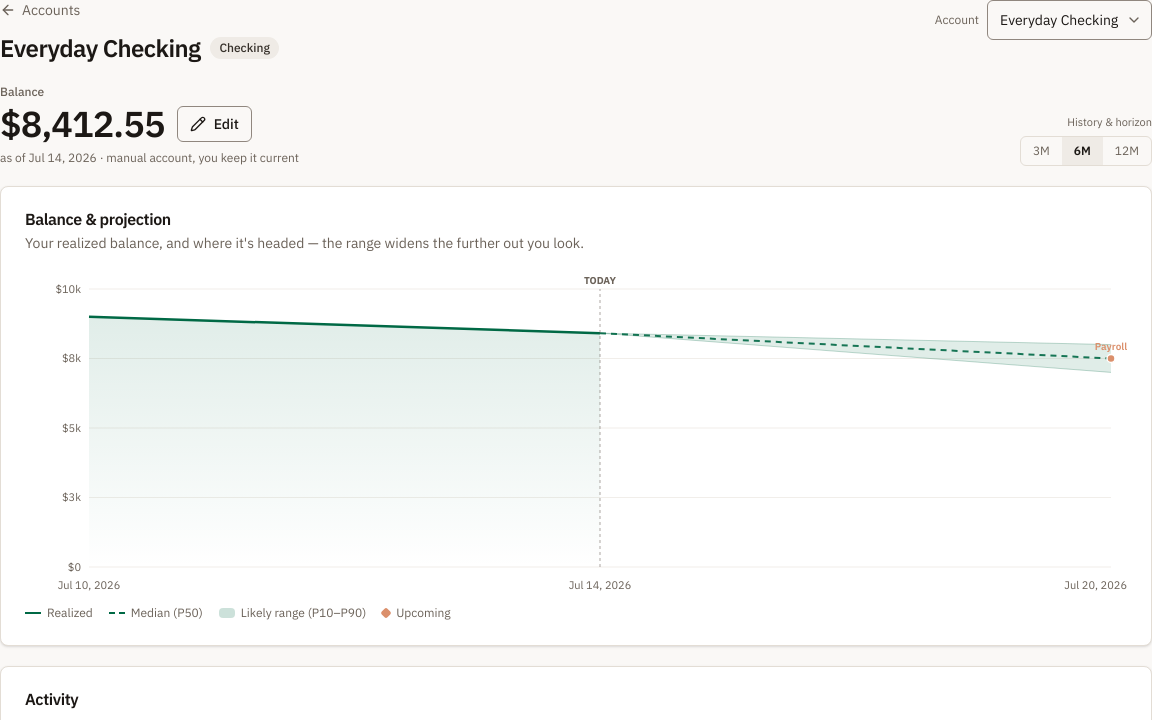
Scenario: AccountDetailView › Explain with transactions reads what is actually left (personal-cfo-4d8.64) › a cash account: a nonzero residual shows what remains, keeps the entry path, and never says Reconciled
Click the button "Edit".
click(214, 124)  # box [177,106,252,142]
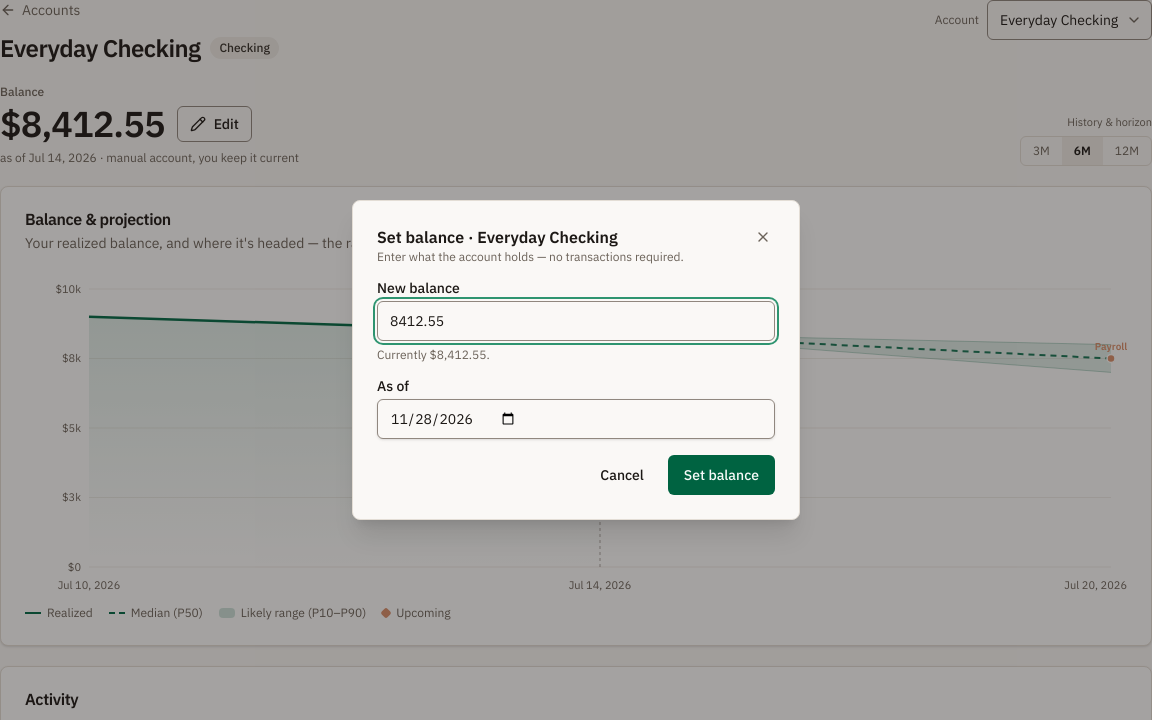
Click the button "Set balance".
click(721, 475)  # box [668,455,775,495]
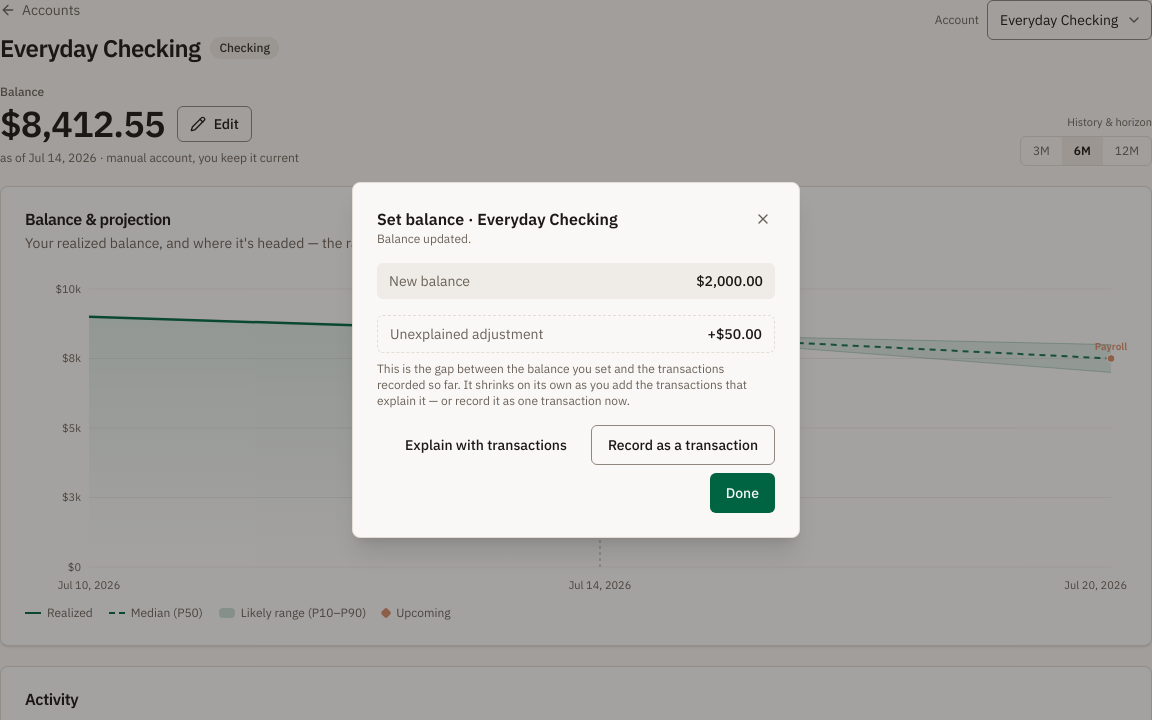
Click the button "Explain with transactions".
click(486, 445)  # box [389,425,583,465]
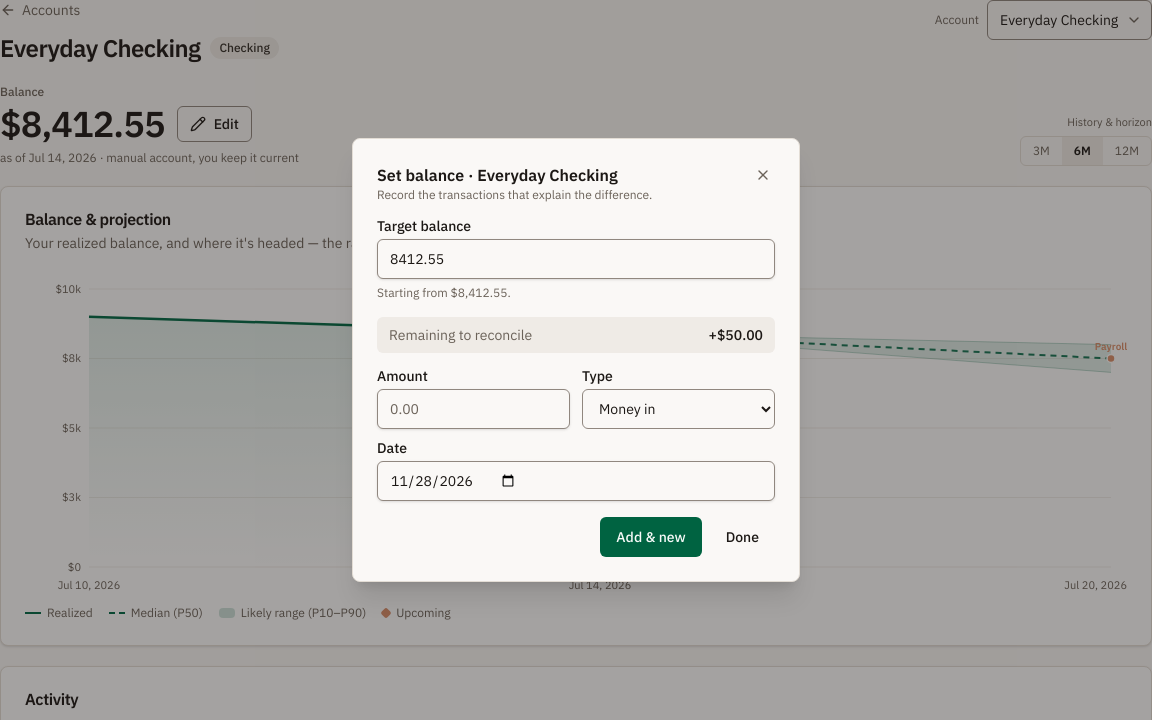
Expected: the text "+$50.00" is shown, [709,325,763,345]
Expected: the text "Record the transactions that explain the difference." is shown, [377,187,652,203]
Expected: the button "Add & new" is shown, [600,517,702,557]
